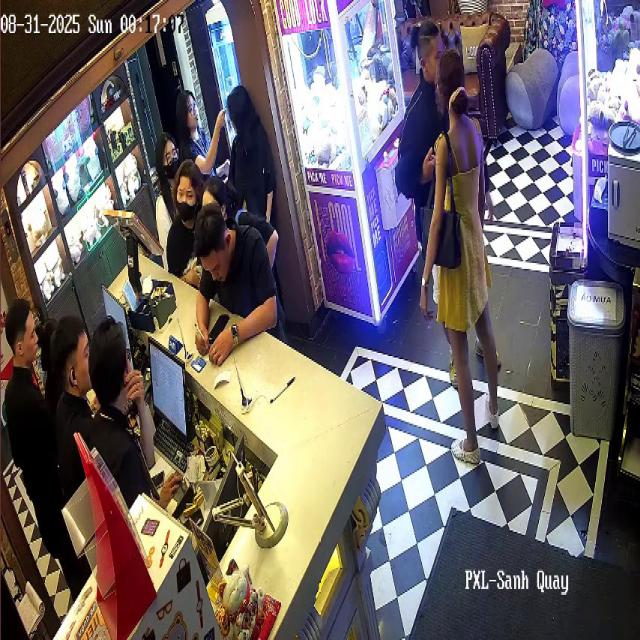khach: (435, 64, 504, 462), (399, 8, 449, 300), (195, 207, 289, 357), (226, 84, 282, 231), (205, 170, 280, 238), (178, 74, 218, 174), (177, 160, 200, 270), (154, 129, 178, 229)
nhan vien: (83, 297, 162, 500), (48, 314, 90, 552), (8, 292, 45, 487)
